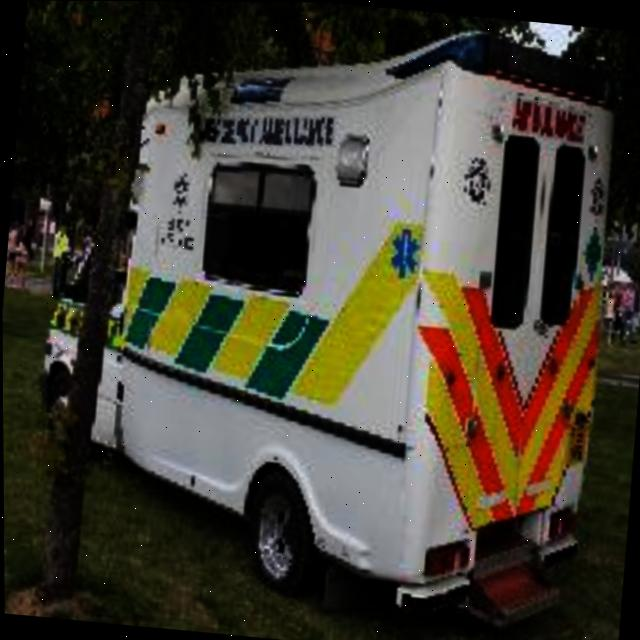emergency: (54, 27, 640, 621)
